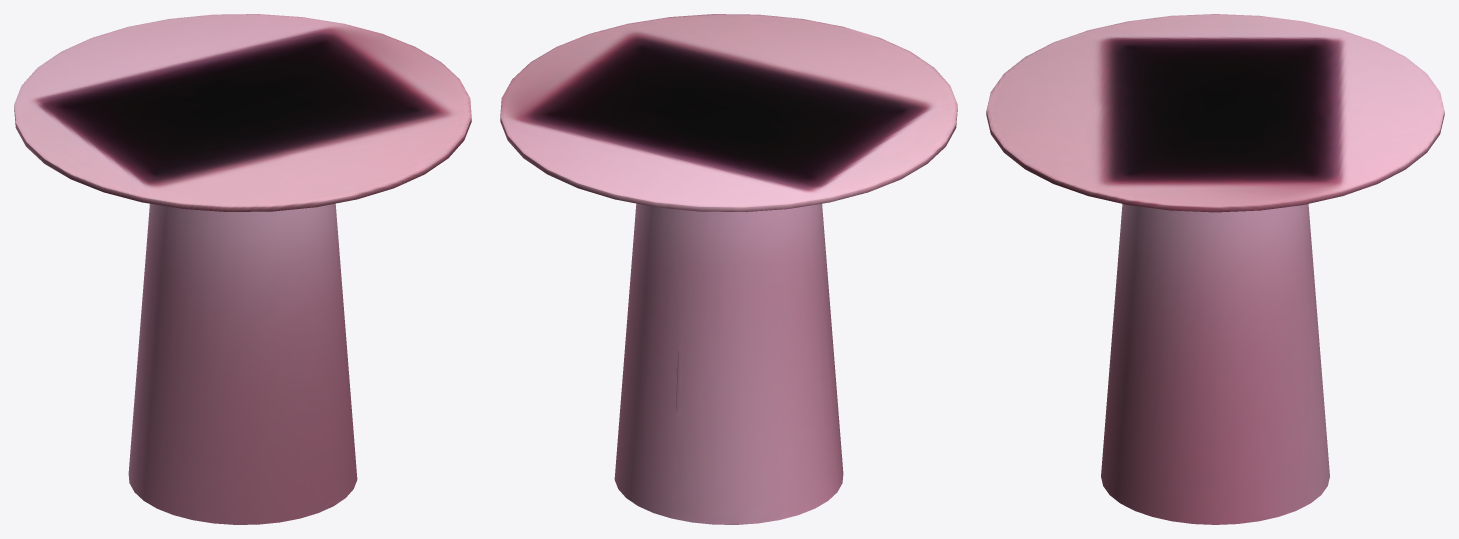
Rendered from TableSingular.glb.
3 renders of one model, left to right at view 1: azimuth 30°, elevation 25°; view 2: azimuth 150°, elevation 25°; view 3: azimuth 270°, elevation 25°, orthographic.
Visible parts, largest first — view 1: Table; view 2: Table; view 3: Table.
Boxes of the visible parts, bbox=[...] form: Table: bbox=[14, 14, 471, 524]; Table: bbox=[500, 14, 957, 524]; Table: bbox=[986, 14, 1444, 524].
Size of the model in its own units: 0.8 by 0.705 by 0.8.
Materials: 2 (2 with a texture image).
